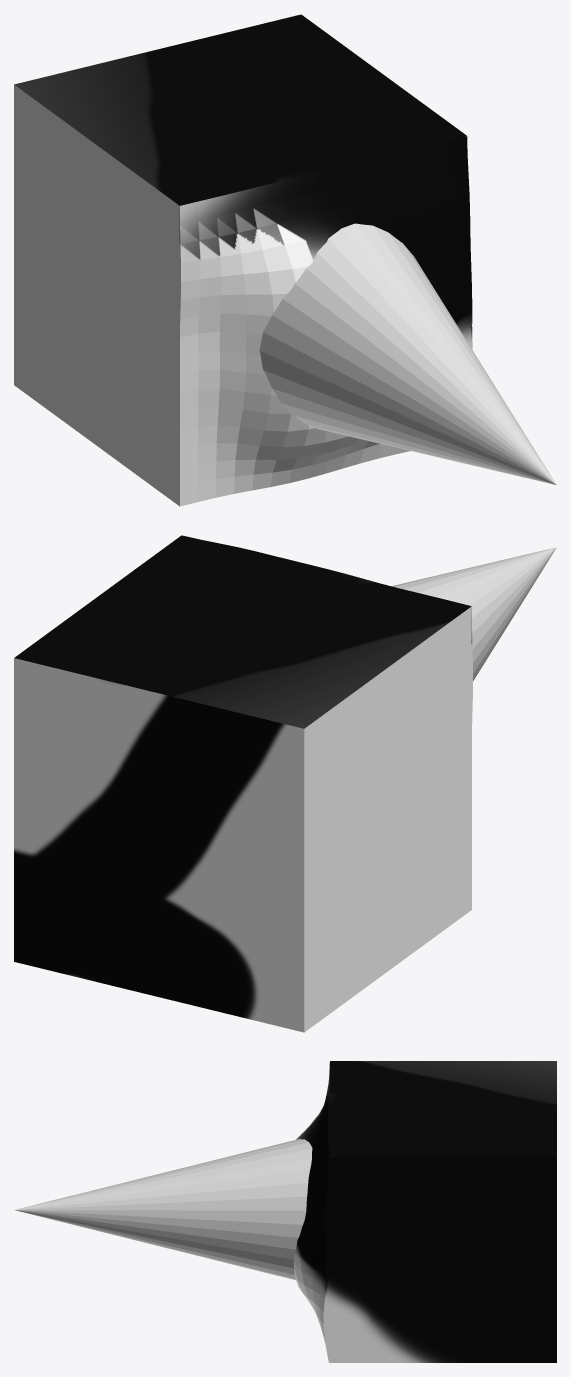
File: SharpCube.fbx
3 views of the same model, one above another, from view 1: azimuth 30°, elevation 25°; view 2: azimuth 150°, elevation 25°; view 3: azimuth 270°, elevation 25° (orthographic). The views are drawn at different scales.
Parts seen in each view (by area): view 1: Cube, Cone; view 2: Cube, Cone; view 3: Cube, Cone.
Boxes of the visible parts, <box> form: Cube: <box>14,14,472,506</box>; Cone: <box>259,223,556,484</box>; Cube: <box>14,535,472,1032</box>; Cone: <box>391,547,556,680</box>; Cube: <box>293,1061,556,1362</box>; Cone: <box>14,1139,312,1280</box>.
Size of the model in its own units: 201 by 202 by 478.
Materials: 1 (1 with a texture image).
